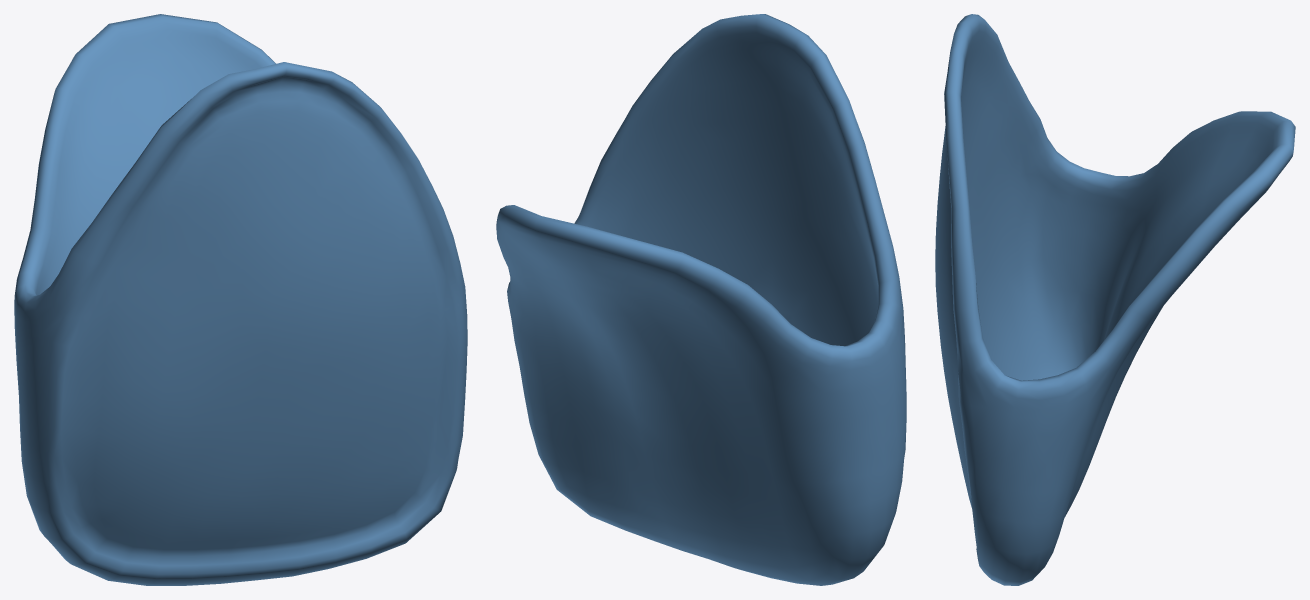
The model's file is TL1_Enamel_Prongs.001 2.glb.
3 renders of one model, left to right at view 1: azimuth 30°, elevation 25°; view 2: azimuth 150°, elevation 25°; view 3: azimuth 270°, elevation 25°, orthographic. The views are drawn at different scales.
Visible parts, largest first — view 1: TL1_Enamel_Prongs.001; view 2: TL1_Enamel_Prongs.001; view 3: TL1_Enamel_Prongs.001.
Boxes of the visible parts, x1=… form: TL1_Enamel_Prongs.001: x1=14, y1=14, x2=467, y2=585; TL1_Enamel_Prongs.001: x1=496, y1=14, x2=906, y2=585; TL1_Enamel_Prongs.001: x1=935, y1=14, x2=1295, y2=585.
Bounding box in the file's own units: 0.8668 × 1.11 × 0.7236.
